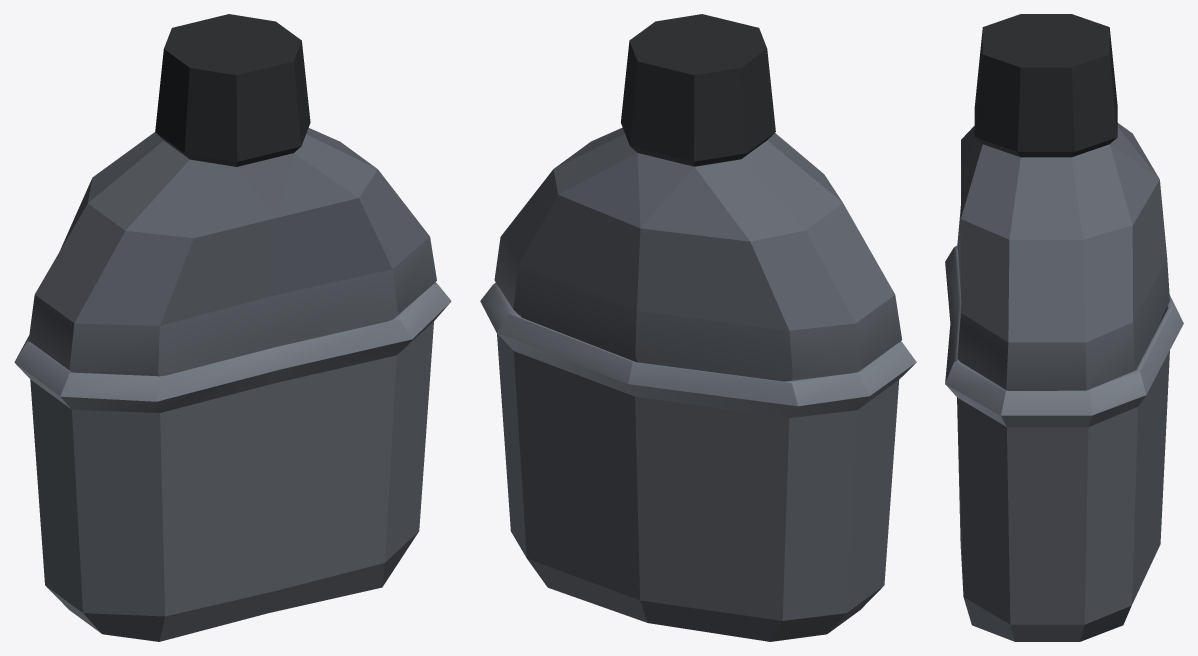
File: SM_Item_Canteen_01.fbx
3 renders of one model, left to right at view 1: azimuth 30°, elevation 25°; view 2: azimuth 150°, elevation 25°; view 3: azimuth 270°, elevation 25°, orthographic. The views are drawn at different scales.
Parts seen in each view (by area): view 1: SM_Item_Canteen_Cup_01, SM_Item_Canteen_01; view 2: SM_Item_Canteen_Cup_01, SM_Item_Canteen_01; view 3: SM_Item_Canteen_01, SM_Item_Canteen_Cup_01.
Part boxes in pixels (x1,y1,x2,y2): SM_Item_Canteen_Cup_01: [14, 282, 451, 641]; SM_Item_Canteen_01: [28, 14, 436, 376]; SM_Item_Canteen_Cup_01: [480, 282, 916, 641]; SM_Item_Canteen_01: [494, 14, 901, 381]; SM_Item_Canteen_01: [957, 14, 1169, 390]; SM_Item_Canteen_Cup_01: [945, 245, 1183, 641].
Bounding box in the file's own units: 18.07 × 23.92 × 9.75.
